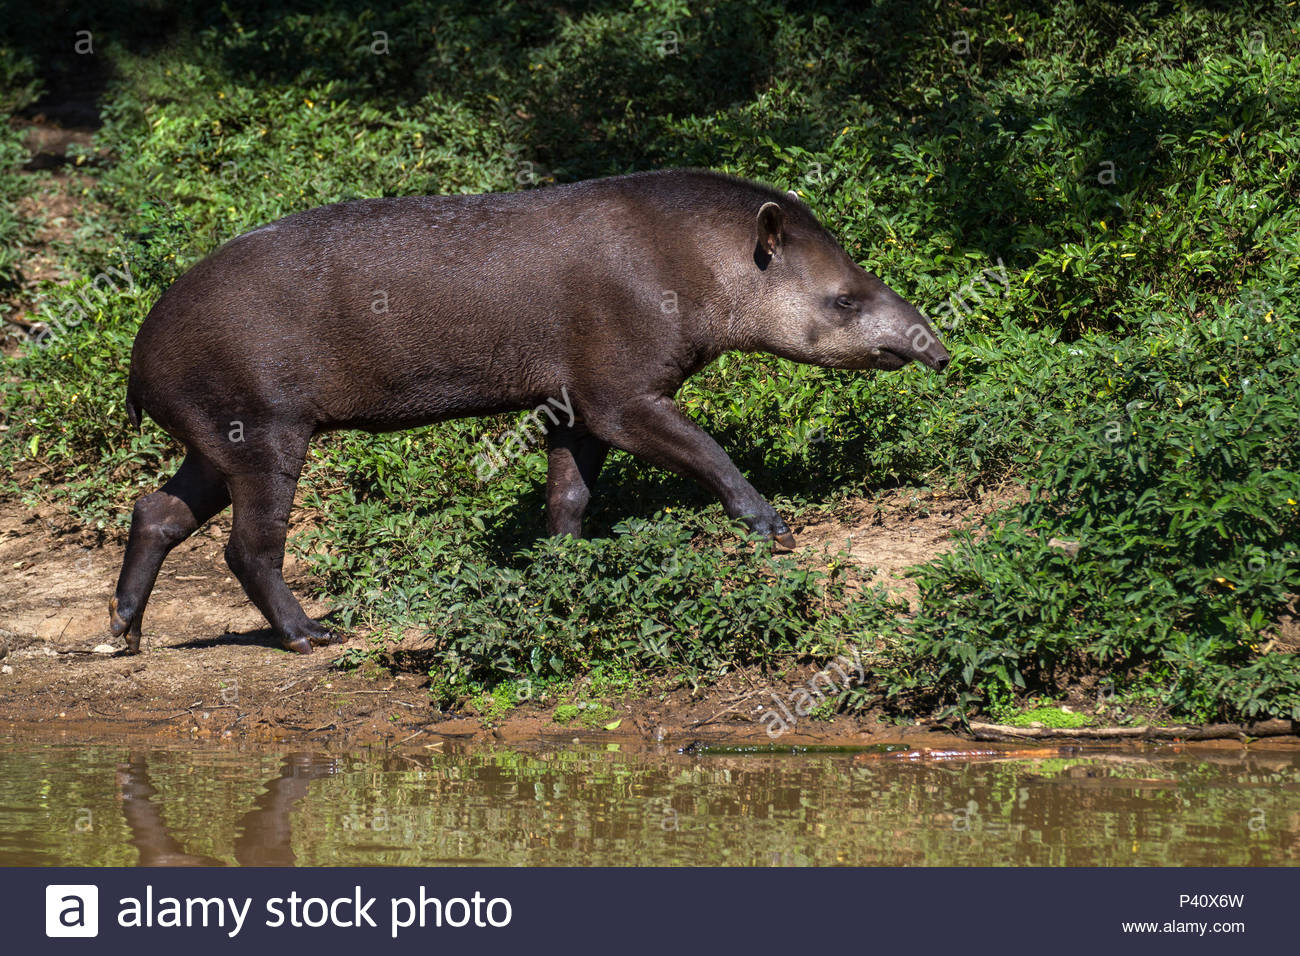Anta: (87, 152, 958, 659)
